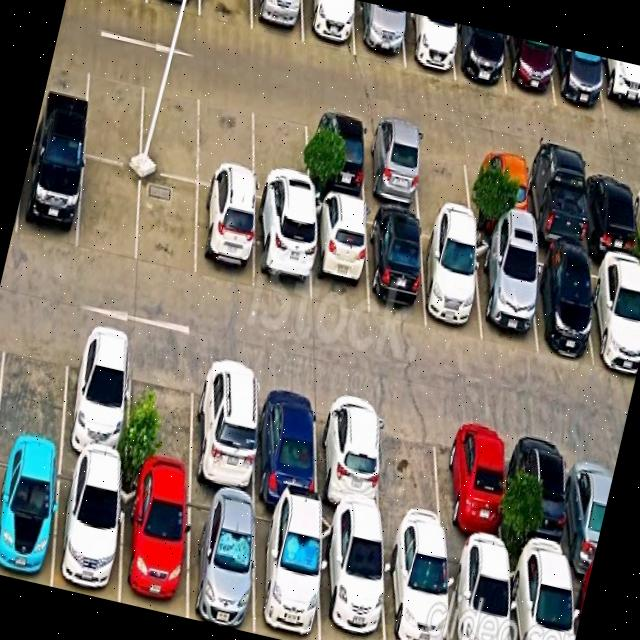empty: (126, 340, 195, 485), (0, 311, 70, 451), (377, 399, 445, 543), (140, 70, 202, 182), (77, 156, 141, 262), (83, 57, 144, 166), (137, 171, 197, 279), (197, 85, 253, 195), (253, 96, 307, 209), (415, 131, 472, 223), (199, 0, 251, 30)
occupied: (52, 456, 122, 602), (61, 323, 131, 468), (120, 472, 188, 617), (187, 487, 254, 633), (192, 355, 257, 499), (253, 503, 319, 640), (317, 386, 380, 528), (443, 411, 504, 557), (0, 444, 61, 586), (255, 370, 316, 511), (320, 517, 384, 640), (516, 426, 570, 569), (16, 139, 84, 250), (474, 236, 537, 353), (527, 247, 592, 360), (421, 222, 481, 340), (383, 534, 448, 640), (367, 209, 425, 324), (311, 197, 367, 314), (568, 439, 616, 573), (587, 255, 640, 373), (195, 185, 253, 290), (446, 545, 510, 640), (523, 156, 584, 253), (254, 199, 310, 303), (307, 109, 365, 203), (470, 144, 527, 238), (509, 558, 573, 640), (364, 121, 420, 213), (583, 167, 637, 258), (552, 45, 604, 119), (451, 22, 505, 93), (402, 10, 454, 80), (504, 34, 555, 105), (354, 0, 404, 65), (597, 55, 640, 128), (302, 0, 354, 55), (252, 0, 302, 43)
